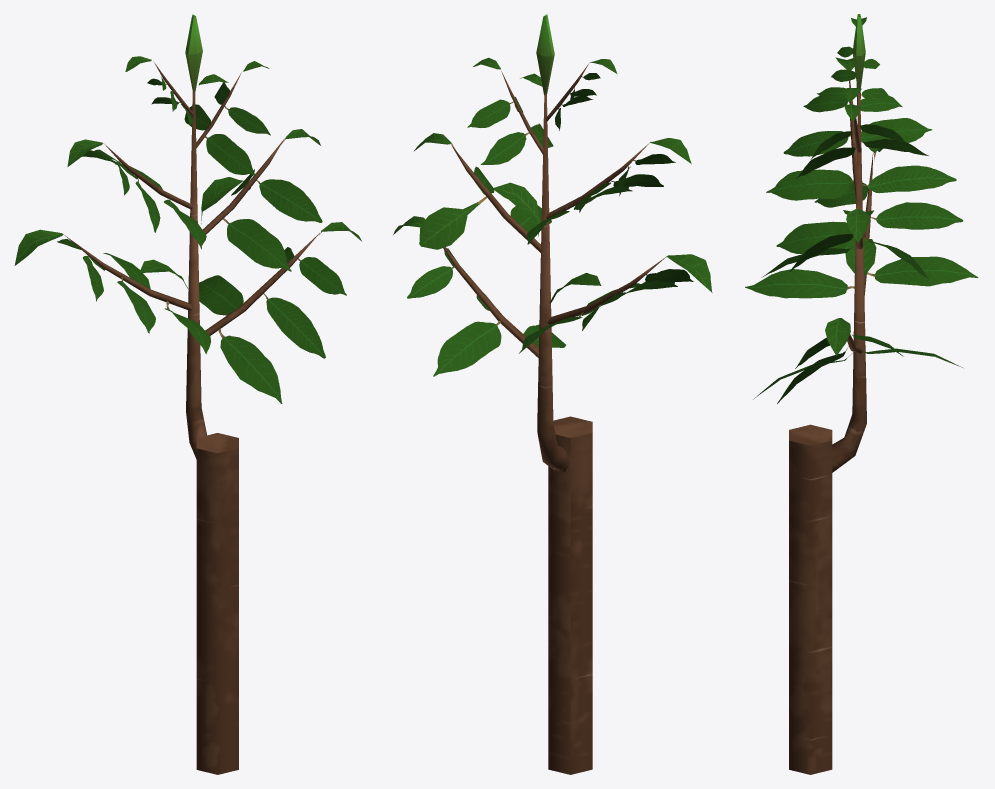
The model's file is SM_Durian_small.fbx.
The picture shows the model from 3 angles, left to right: view 1: azimuth 30°, elevation 25°; view 2: azimuth 150°, elevation 25°; view 3: azimuth 270°, elevation 25°; orthographic projection. The views are drawn at different scales.
Parts seen in each view (by area): view 1: than, polySurface9; view 2: than, polySurface9; view 3: polySurface9, than.
Boxes of the visible parts, <box> form: than: <box>64,61,319,774</box>; polySurface9: <box>14,14,361,403</box>; than: <box>443,62,665,774</box>; polySurface9: <box>393,14,712,376</box>; polySurface9: <box>745,14,978,403</box>; than: <box>789,80,873,774</box>.
Bounding box in the file's own units: 18.25 × 38.93 × 11.24.
